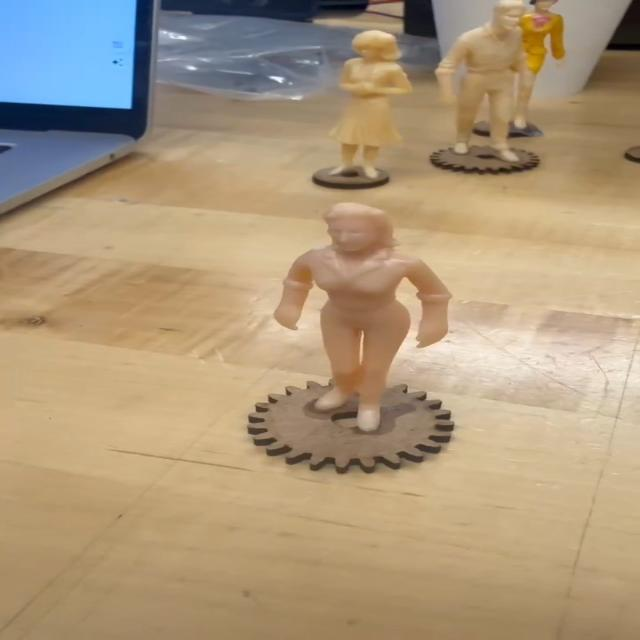Unauthorized: (219, 197, 492, 450)
